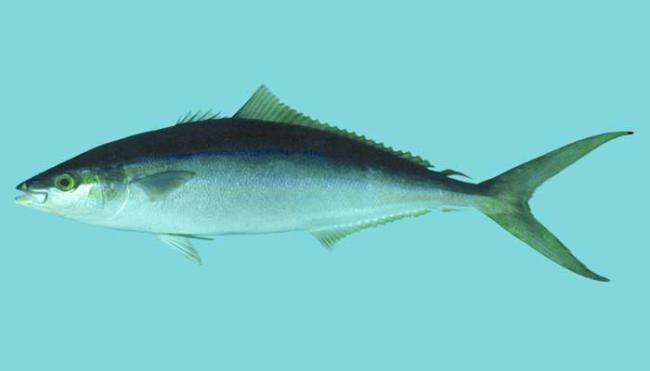fish: (14, 84, 634, 283)
